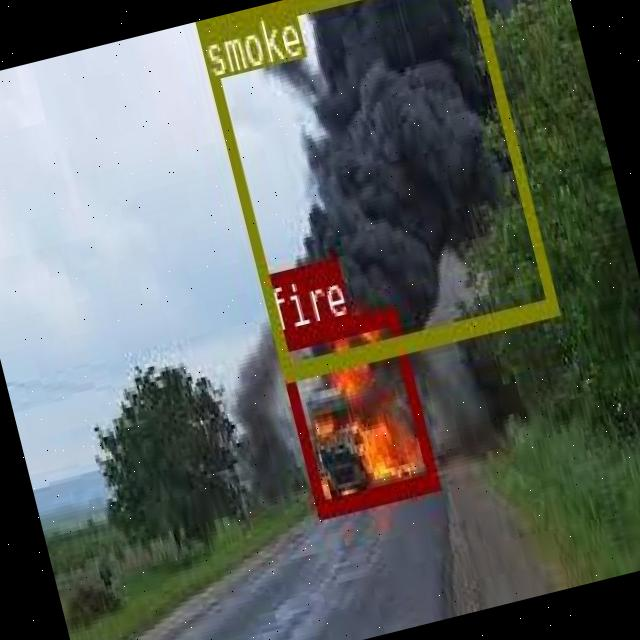fire: (272, 304, 437, 516)
smoke: (195, 0, 555, 380)
